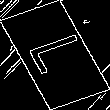L_NE: (18, 31, 92, 79)
